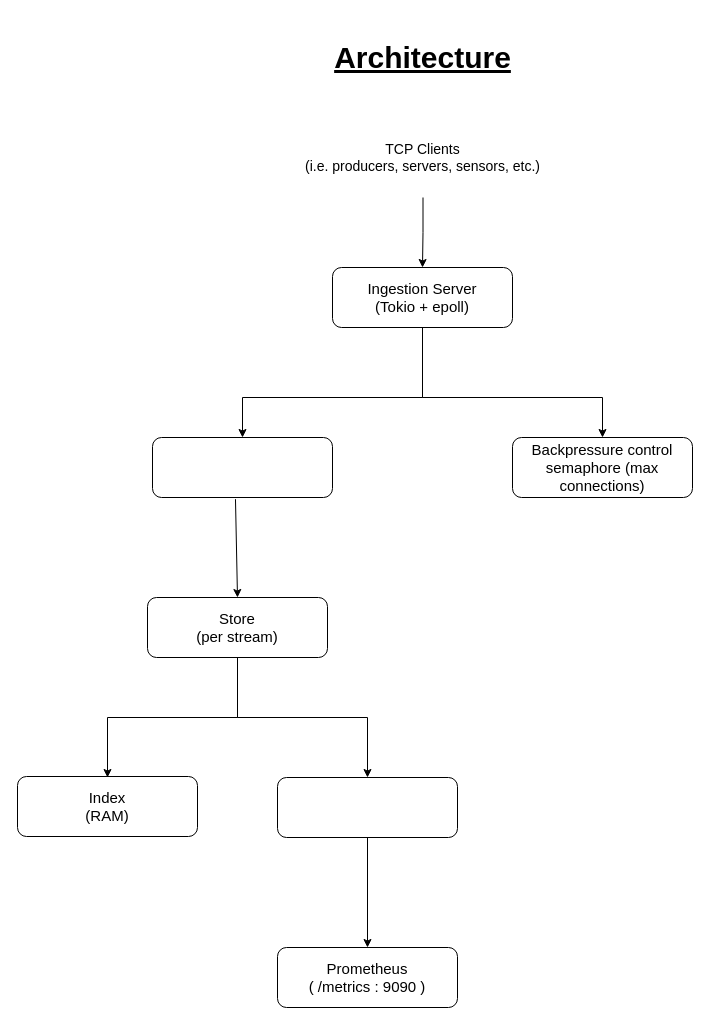
The diagram is 710 pixels wide and 1025 high, and some of its shapes have lost their labels. Here are the shapes that lost their labels. From the top down, the box of each, then its label:
(152, 436, 332, 498): Protocol Layer (Binary decode)
(276, 776, 458, 838): Segment Files (Disk)
